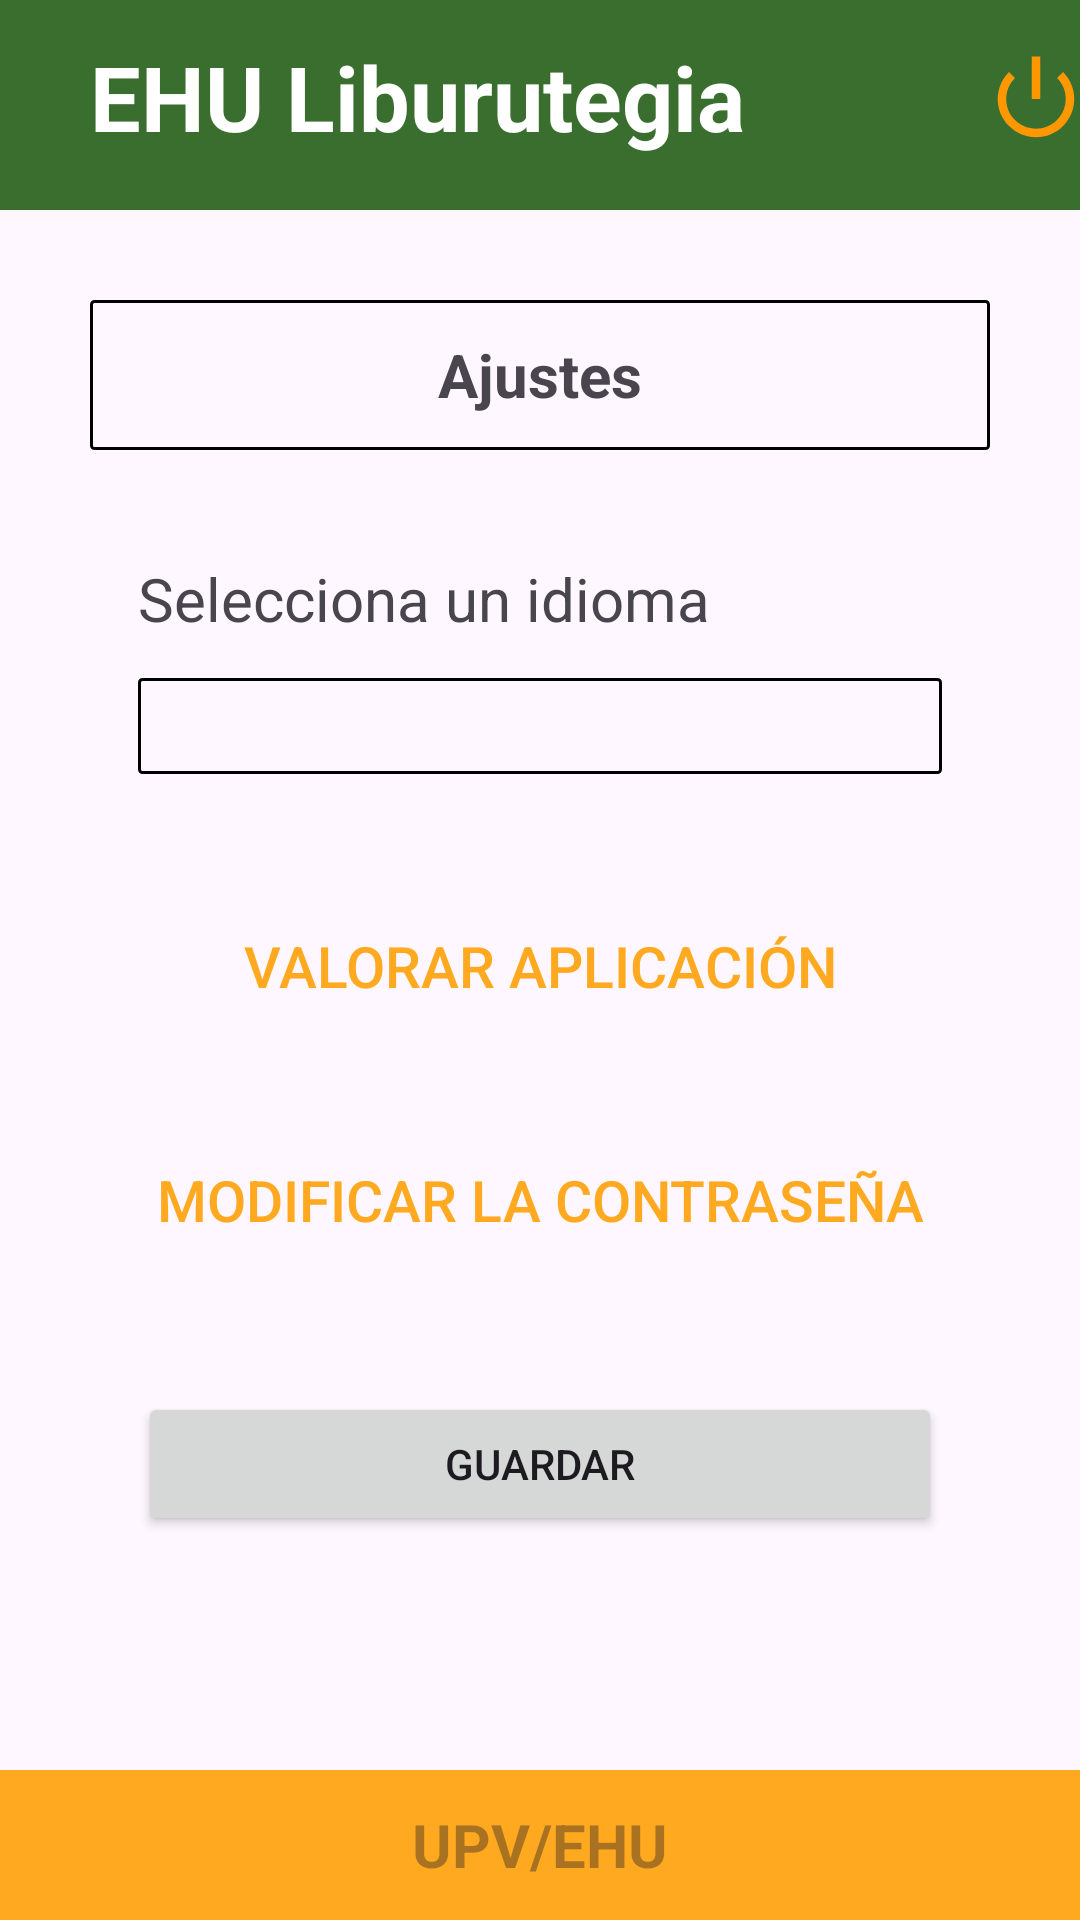

Icons on this 1080px×1920px Android screen, each with its box as BBox(x1, y1, x2, y2):
lock power off: BBox(997, 56, 1075, 138)
